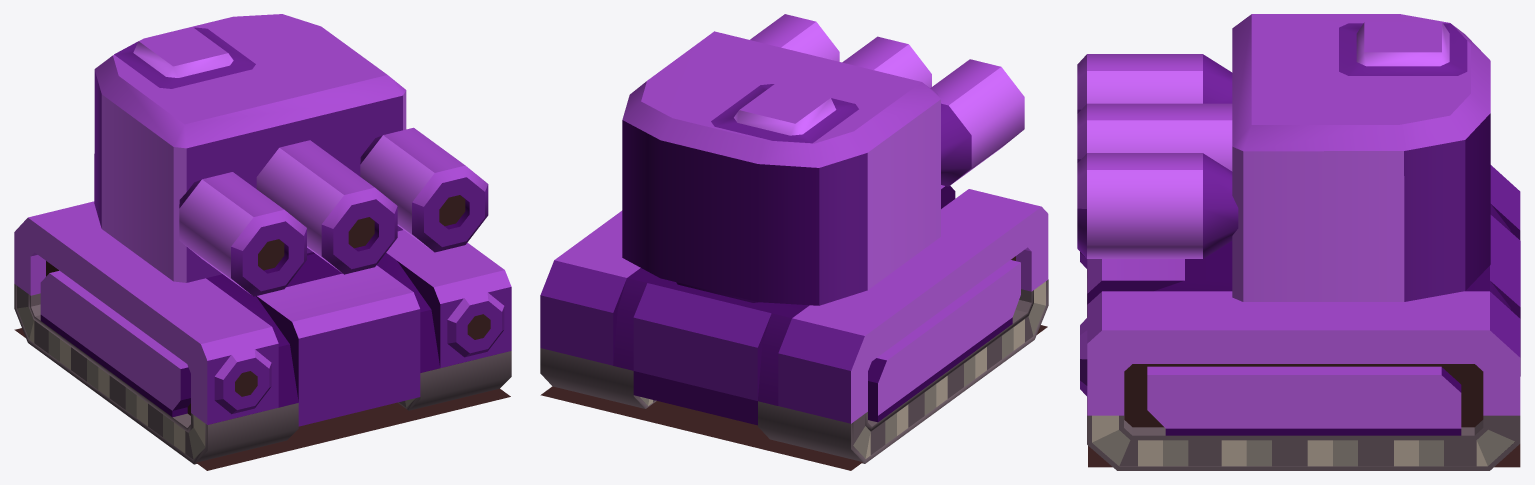
The model's file is MegaTankMesh.PurpleLightning.glb.
3 renders of one model, left to right at view 1: azimuth 30°, elevation 25°; view 2: azimuth 150°, elevation 25°; view 3: azimuth 270°, elevation 25°, orthographic. The views are drawn at different scales.
Parts seen in each view (by area): view 1: MegaTankMesh.PurpleLightning; view 2: MegaTankMesh.PurpleLightning; view 3: MegaTankMesh.PurpleLightning.
Part boxes in pixels (left/top/right/bottom): MegaTankMesh.PurpleLightning: left=14, top=14, right=511, bottom=470; MegaTankMesh.PurpleLightning: left=540, top=14, right=1048, bottom=470; MegaTankMesh.PurpleLightning: left=1077, top=14, right=1520, bottom=470.
Bounding box in the file's own units: 2 × 1.86 × 2.25.
Materials: 1 (1 with a texture image).
